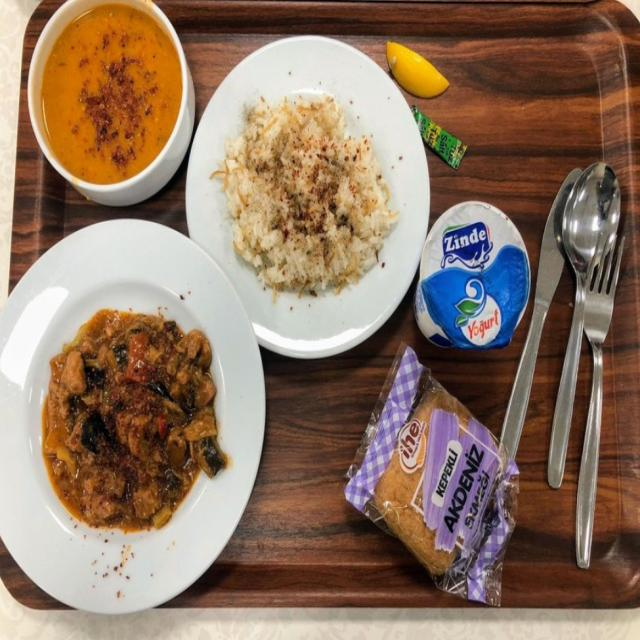ana_yemek: (1, 218, 262, 614), (186, 35, 422, 361)
corba: (25, 2, 192, 205)
